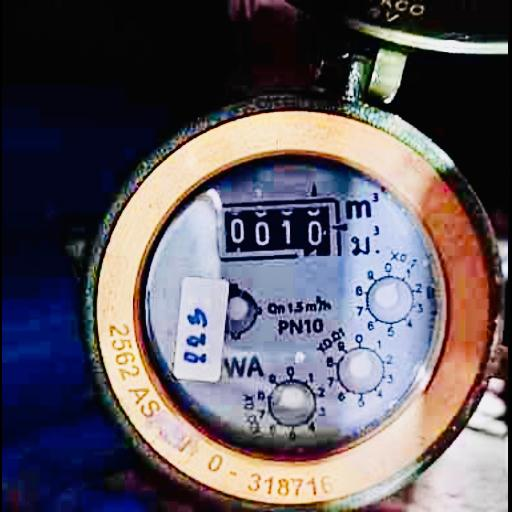0: (303, 206, 332, 257), (249, 209, 279, 251), (225, 210, 251, 253)
1: (277, 208, 305, 250)
border_water_meter_number: (216, 197, 343, 262)
